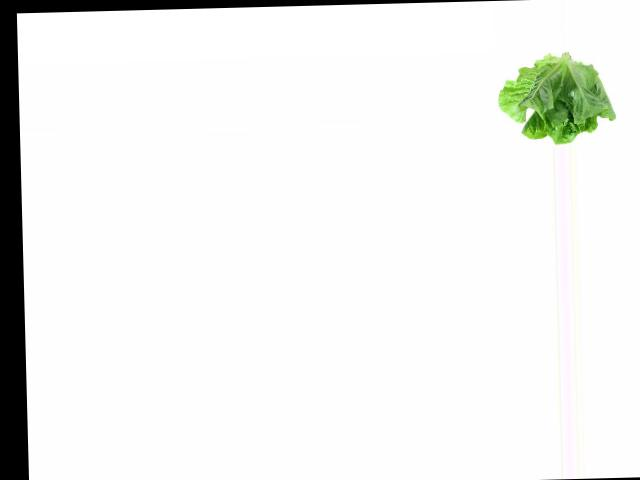lettuce: (498, 55, 618, 145)
